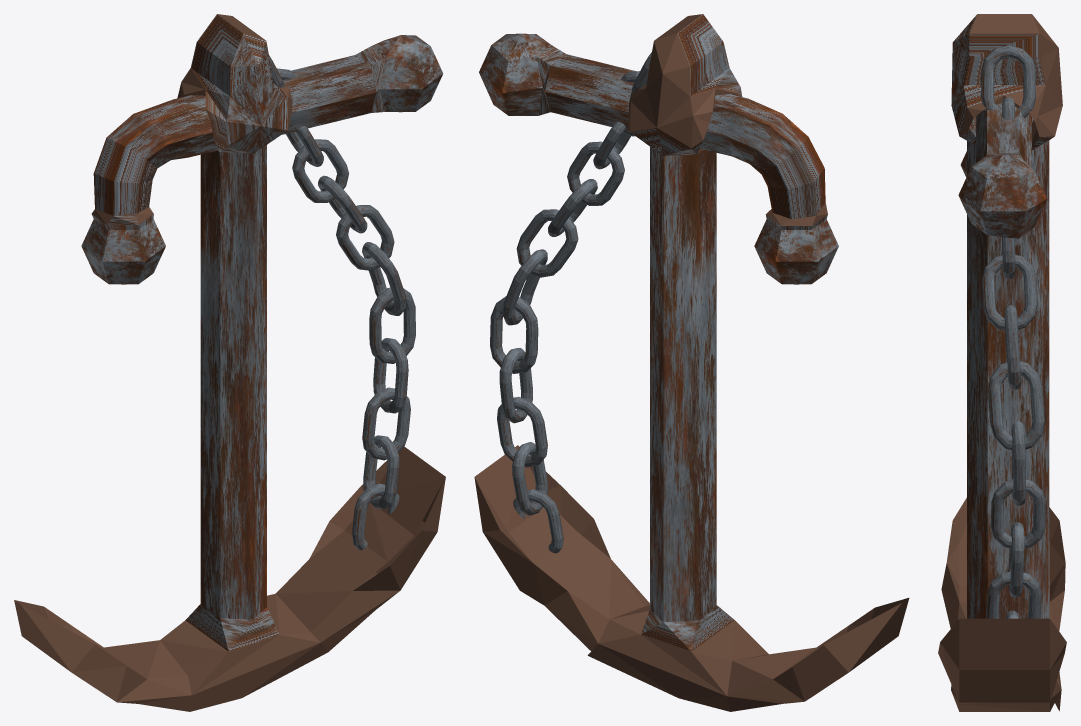
The model's file is ancla.fbx.
3 renders of one model, left to right at view 1: azimuth 30°, elevation 25°; view 2: azimuth 150°, elevation 25°; view 3: azimuth 270°, elevation 25°, orthographic. The views are drawn at different scales.
Parts seen in each view (by area): view 1: Plane, Torus.003; view 2: Plane, Torus.003; view 3: Plane, Torus.003.
Part boxes in pixels (x1,y1,x2,y2): Plane: [14, 14, 445, 711]; Torus.003: [269, 55, 415, 550]; Plane: [474, 14, 909, 711]; Torus.003: [490, 52, 651, 553]; Plane: [938, 14, 1066, 711]; Torus.003: [981, 45, 1046, 618].
Bounding box in the file's own units: 138 × 209 × 35.49.
2 materials, 2 textured.
